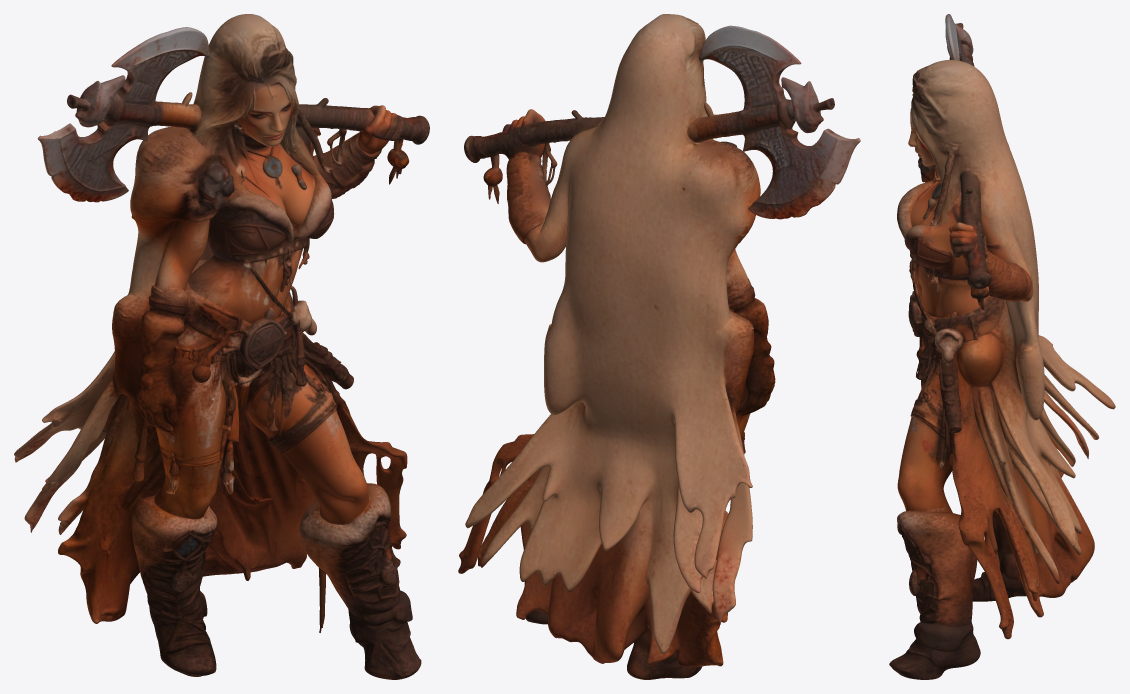
The model's file is barbarian_full_female_01.glb.
3 renders of one model, left to right at view 1: azimuth 30°, elevation 25°; view 2: azimuth 150°, elevation 25°; view 3: azimuth 270°, elevation 25°, orthographic. The views are drawn at different scales.
Parts seen in each view (by area): view 1: material; view 2: material; view 3: material.
Boxes of the visible parts, x1,y1,x2,y2 form: material: (14, 14, 429, 679); material: (458, 14, 860, 679); material: (889, 14, 1115, 679).
Bounding box in the file's own units: 0.6542 × 1.05 × 0.3815.
Materials: 1 (1 with a texture image).
